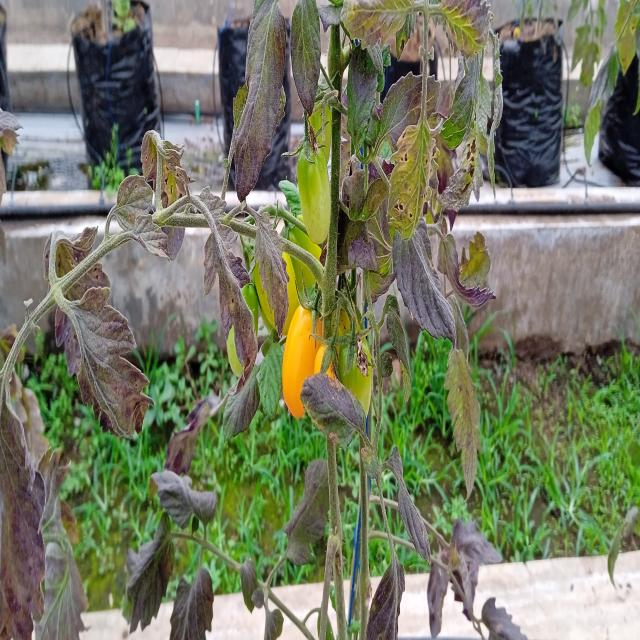fine: (282, 290, 324, 430)
unripe: (296, 135, 333, 243)
